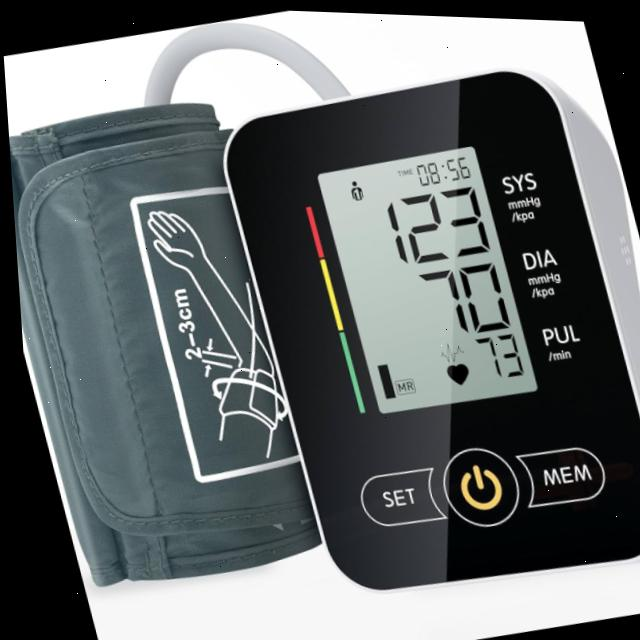dia: (409, 255, 515, 336)
pul: (463, 321, 525, 387)
ssd: (315, 133, 533, 423)
sys: (376, 174, 494, 267)
